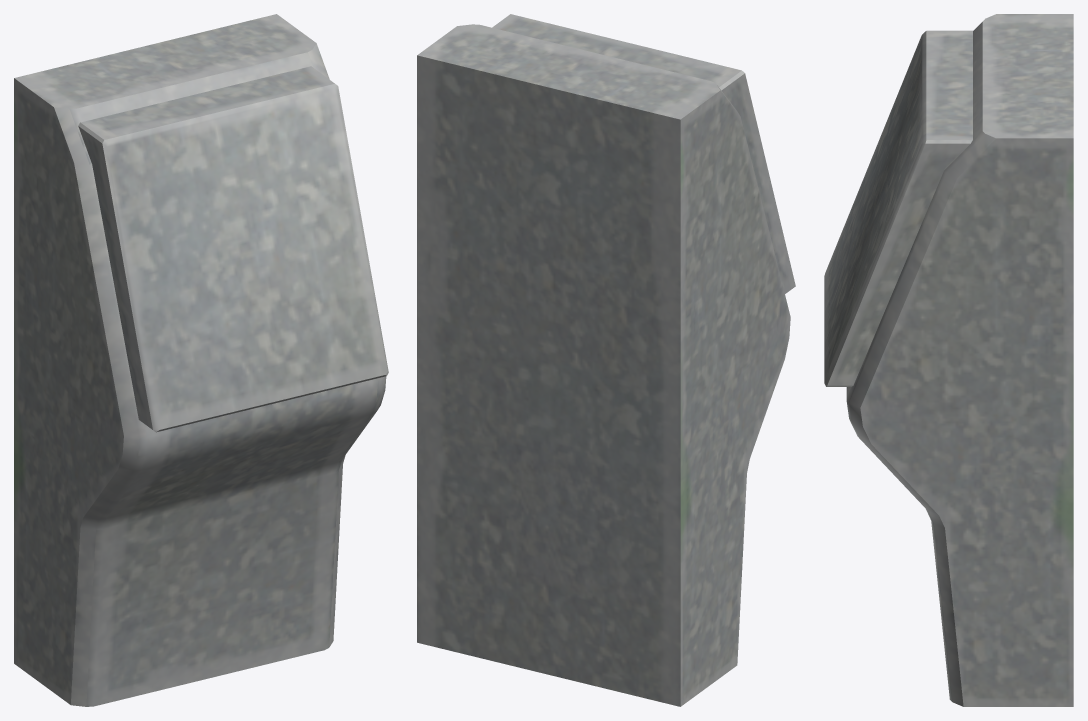
Rendered from NumberPad.FBX.
3 views of the same model, side by side, from view 1: azimuth 30°, elevation 25°; view 2: azimuth 150°, elevation 25°; view 3: azimuth 270°, elevation 25° (orthographic). The views are drawn at different scales.
Visible parts, largest first — view 1: NumberPad_Base; view 2: NumberPad_Base; view 3: NumberPad_Base.
Boxes of the visible parts, box(x1,y1,x2,y2) form: NumberPad_Base: box(14, 14, 388, 706); NumberPad_Base: box(417, 14, 795, 706); NumberPad_Base: box(824, 14, 1073, 706).
Size of the model in its own units: 19.44 by 41.42 by 16.46.
Materials: 1 (1 with a texture image).
